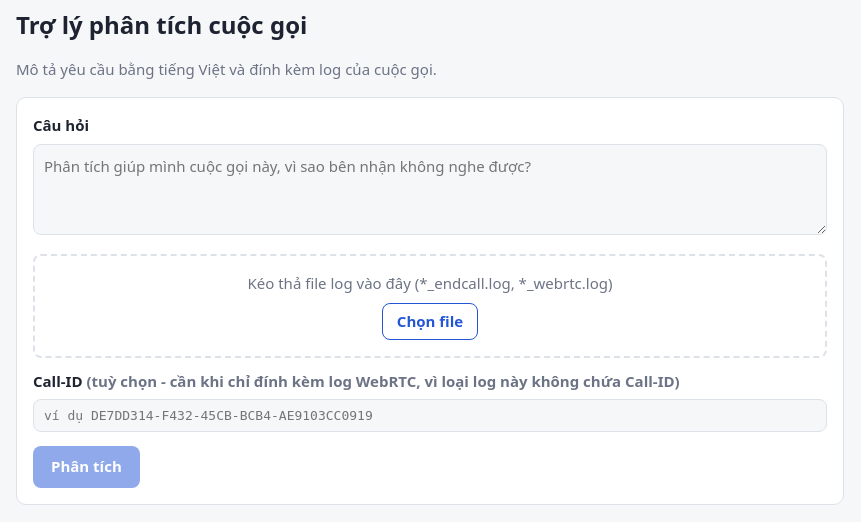
App › keeps the submit button disabled until there is a question or a file
Expected: the button "Phân tích" is disabled, [33, 446, 140, 488]
In the text box labelled "Câu hỏi": (430, 190) [33, 144, 827, 236], type "Phân tích cuộc gọi này"
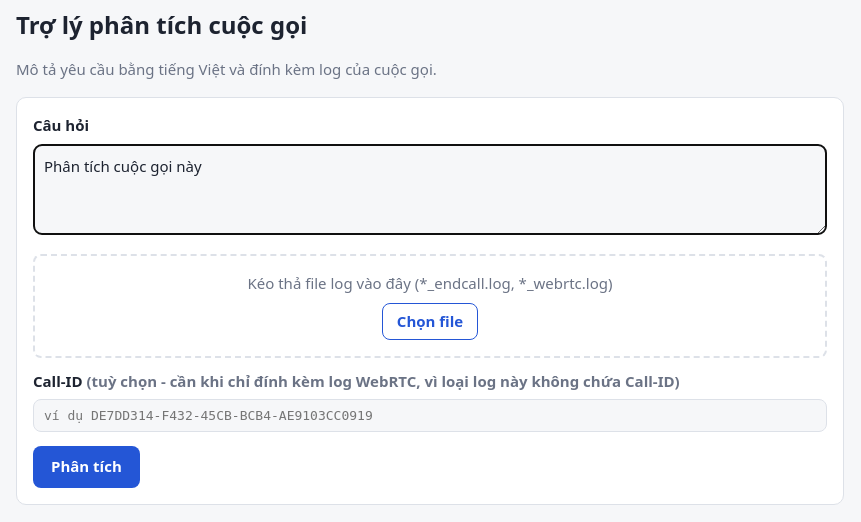
Now the button "Phân tích" is enabled, box [33, 446, 140, 488]
